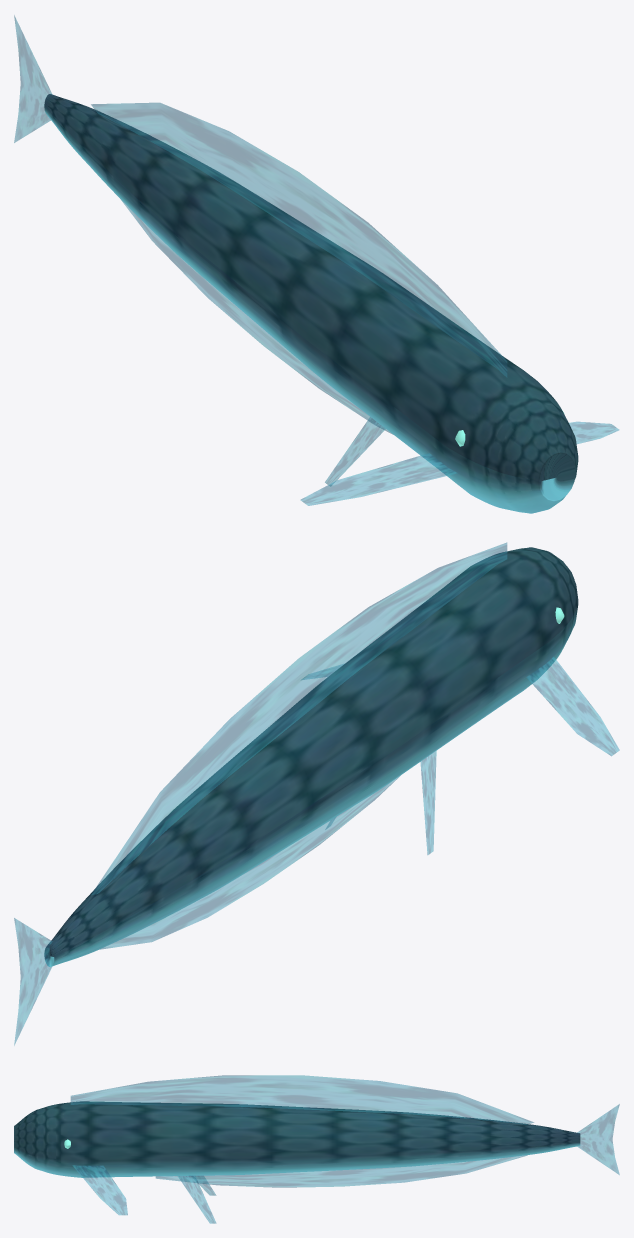
The model's file is alien_abyss_leviathan.glb.
The picture shows the model from 3 angles, top to bottom: view 1: azimuth 30°, elevation 25°; view 2: azimuth 150°, elevation 25°; view 3: azimuth 270°, elevation 25°; orthographic projection. The views are drawn at different scales.
Bounding box in the file's own units: 7.78 × 5.77 × 23.54.
2 materials, 2 textured.
